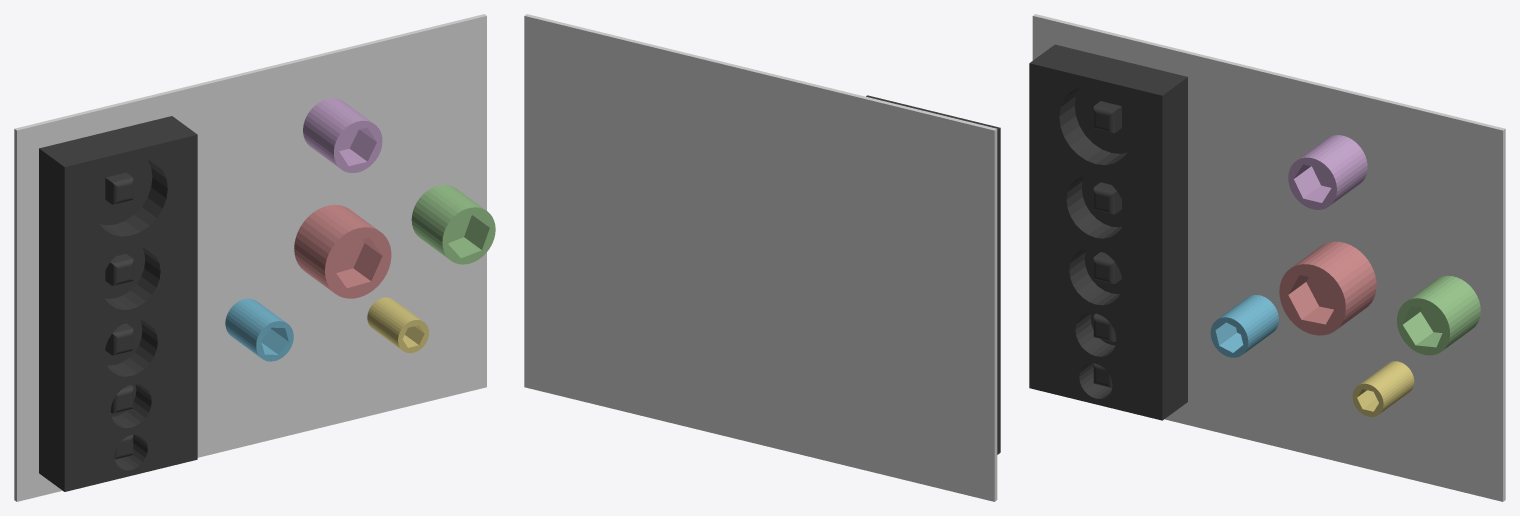
File: pickup_layout.glb
3 renders of one model, left to right at view 1: azimuth 30°, elevation 25°; view 2: azimuth 150°, elevation 25°; view 3: azimuth 330°, elevation 25°, orthographic.
Parts seen in each view (by area): view 1: world, 0.obj, 5.obj, 4.obj, 3.obj, 2.obj, 1.obj; view 2: world, 0.obj; view 3: world, 0.obj, 5.obj, 4.obj, 3.obj, 2.obj, 1.obj.
Part boxes in pixels (x1,y1,x2,y2): world: (14, 14, 486, 501); 0.obj: (39, 116, 197, 491); 5.obj: (294, 204, 391, 298); 4.obj: (411, 185, 495, 264); 3.obj: (303, 98, 382, 172); 2.obj: (225, 298, 293, 361); 1.obj: (367, 297, 428, 353); world: (524, 14, 997, 501); 0.obj: (866, 95, 1000, 454); world: (1032, 14, 1505, 501); 0.obj: (1029, 44, 1187, 420); 5.obj: (1279, 241, 1376, 335); 4.obj: (1397, 275, 1480, 355); 3.obj: (1288, 135, 1367, 209); 2.obj: (1210, 295, 1278, 357); 1.obj: (1352, 361, 1414, 416).
Bounding box in the file's own units: 21.2 × 16 × 2.6.
1 material, 1 textured.
